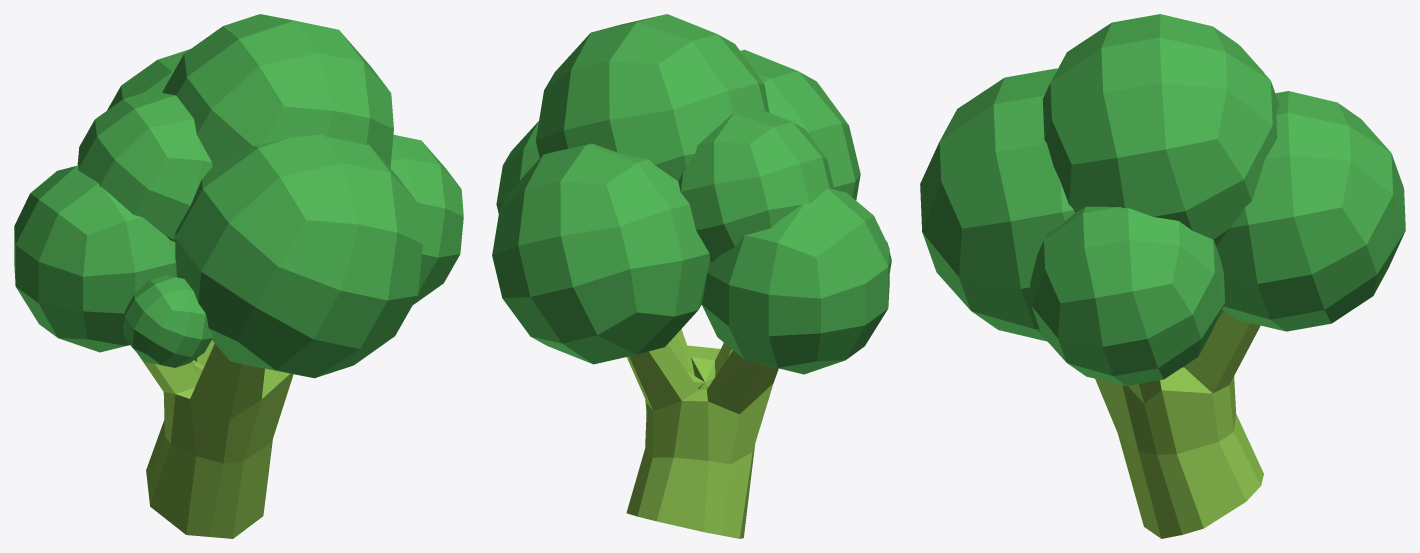
The model's file is brocolis.glb.
3 views of the same model, side by side, from view 1: azimuth 30°, elevation 25°; view 2: azimuth 150°, elevation 25°; view 3: azimuth 270°, elevation 25° (orthographic). The views are drawn at different scales.
Visible parts, largest first — view 1: Broccoli_Circle.007; view 2: Broccoli_Circle.007; view 3: Broccoli_Circle.007.
Boxes of the visible parts, x1,y1,x2,y2 form: Broccoli_Circle.007: (14,14,463,538); Broccoli_Circle.007: (492,14,891,538); Broccoli_Circle.007: (920,14,1405,538).
Size of the model in its own units: 0.6156 by 0.7363 by 0.6173.
